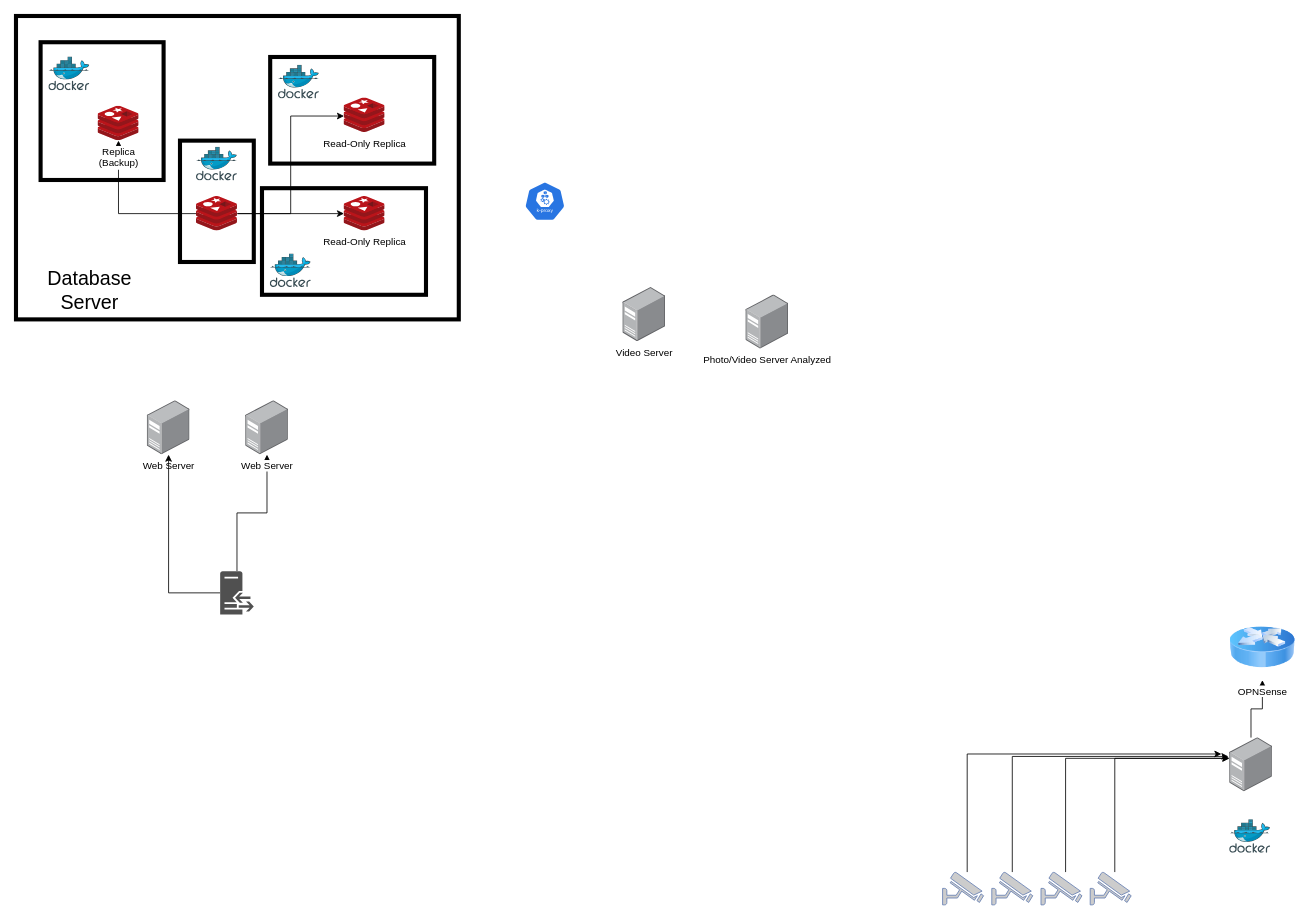
This 1310x920 diagram has some shape labels left out. Each missing label, with the centre of its shape:
"FFMPEG Server" belongs at (1250,764).
"Kubernetes Proxy" belongs at (544,201).
"Master" belongs at (216,213).
"Nginx Revese Proxy" belongs at (236,592).
